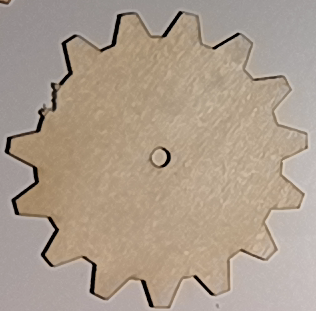Missing: (12, 75, 72, 120)
